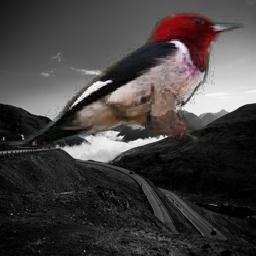Woodpecker: (6, 10, 248, 148)
